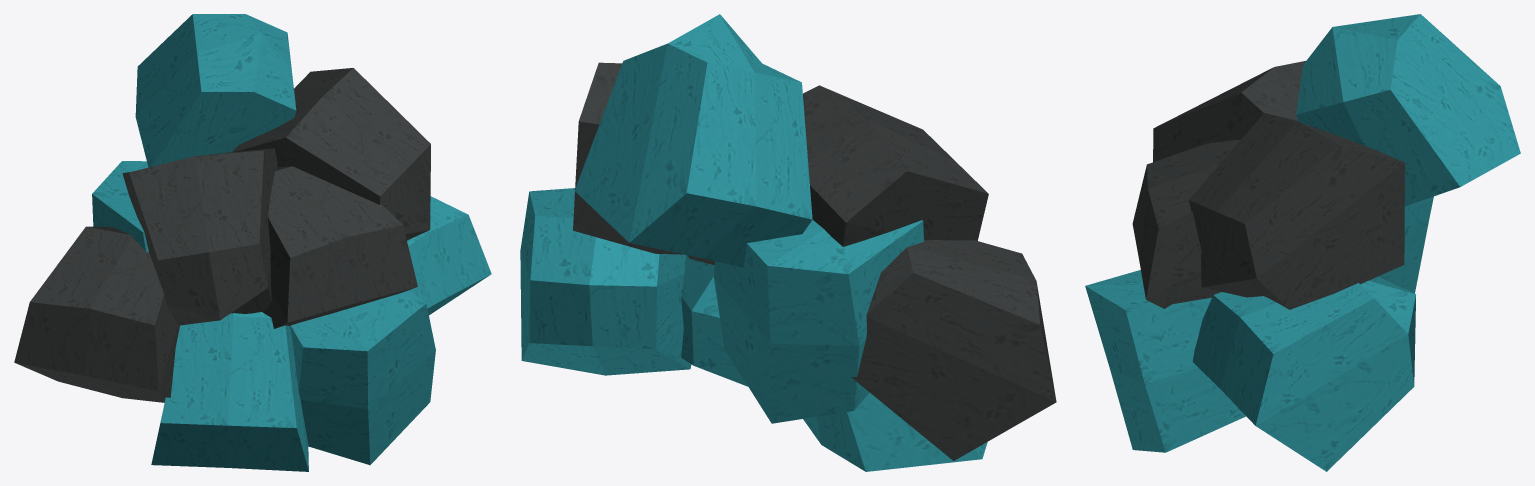
The model's file is MKU_trash_bag_multiple_fin.fbx.
3 views of the same model, side by side, from view 1: azimuth 30°, elevation 25°; view 2: azimuth 150°, elevation 25°; view 3: azimuth 270°, elevation 25° (orthographic). The views are drawn at different scales.
Visible parts, largest first — view 1: Cube, Cube.002, Cube.001, Cube.008, Cube.006, Cube.003, Cube.005, Cube.004, Cube.007; view 2: Cube.008, Cube, Cube.007, Cube.004, Cube.002, Cube.001, Cube.006, Cube.005; view 3: Cube.005, Cube.004, Cube.008, Cube.006, Cube.003, Cube.002, Cube.007.
Boxes of the visible parts, x1,y1,x2,y2 form: Cube: (14, 226, 179, 402); Cube.002: (122, 148, 277, 325); Cube.001: (151, 312, 308, 471); Cube.008: (135, 14, 296, 167); Cube.006: (290, 290, 435, 465); Cube.003: (262, 166, 417, 328); Cube.005: (232, 68, 430, 240); Cube.004: (407, 196, 491, 315); Cube.007: (92, 161, 148, 252); Cube.008: (574, 14, 812, 267); Cube: (851, 240, 1056, 460); Cube.007: (714, 220, 923, 423); Cube.004: (520, 188, 691, 375); Cube.002: (803, 85, 988, 246); Cube.001: (803, 392, 987, 471); Cube.006: (681, 255, 747, 386); Cube.005: (573, 62, 683, 254); Cube.005: (1189, 113, 1404, 309); Cube.004: (1192, 276, 1415, 471); Cube.008: (1296, 14, 1520, 206); Cube.006: (1085, 270, 1245, 452); Cube.003: (1132, 140, 1240, 308); Cube.002: (1153, 61, 1305, 162); Cube.007: (1378, 196, 1433, 293).
Size of the model in its own units: 808 by 630 by 603.
